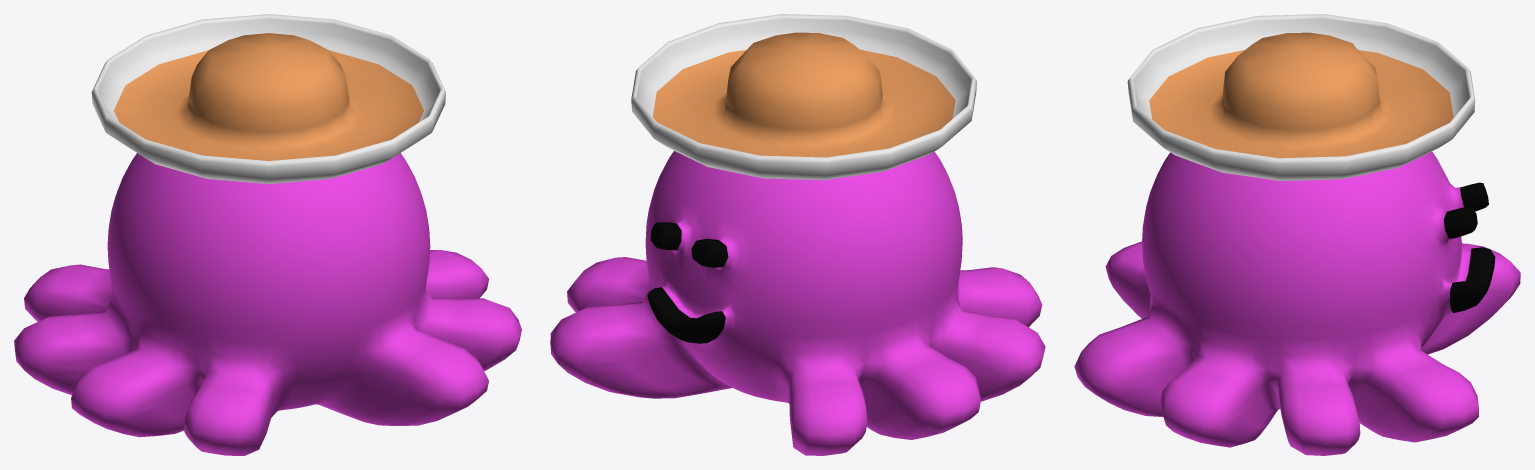
The model's file is papocti.fbx.
3 views of the same model, side by side, from view 1: azimuth 30°, elevation 25°; view 2: azimuth 150°, elevation 25°; view 3: azimuth 270°, elevation 25° (orthographic).
Visible parts, largest first — view 1: Sphere; view 2: Sphere; view 3: Sphere.
Boxes of the visible parts, bbox=[...] form: Sphere: bbox=[14, 14, 521, 455]; Sphere: bbox=[550, 14, 1045, 455]; Sphere: bbox=[1074, 14, 1520, 455].
Size of the model in its own units: 46.52 by 35.11 by 41.57.
